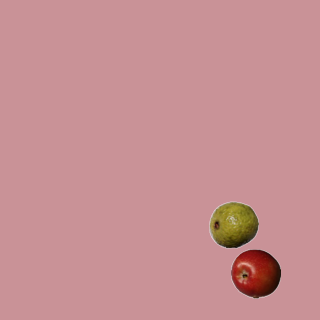Apple Braeburn: (230, 248, 280, 298)
Guava: (208, 199, 258, 249)
